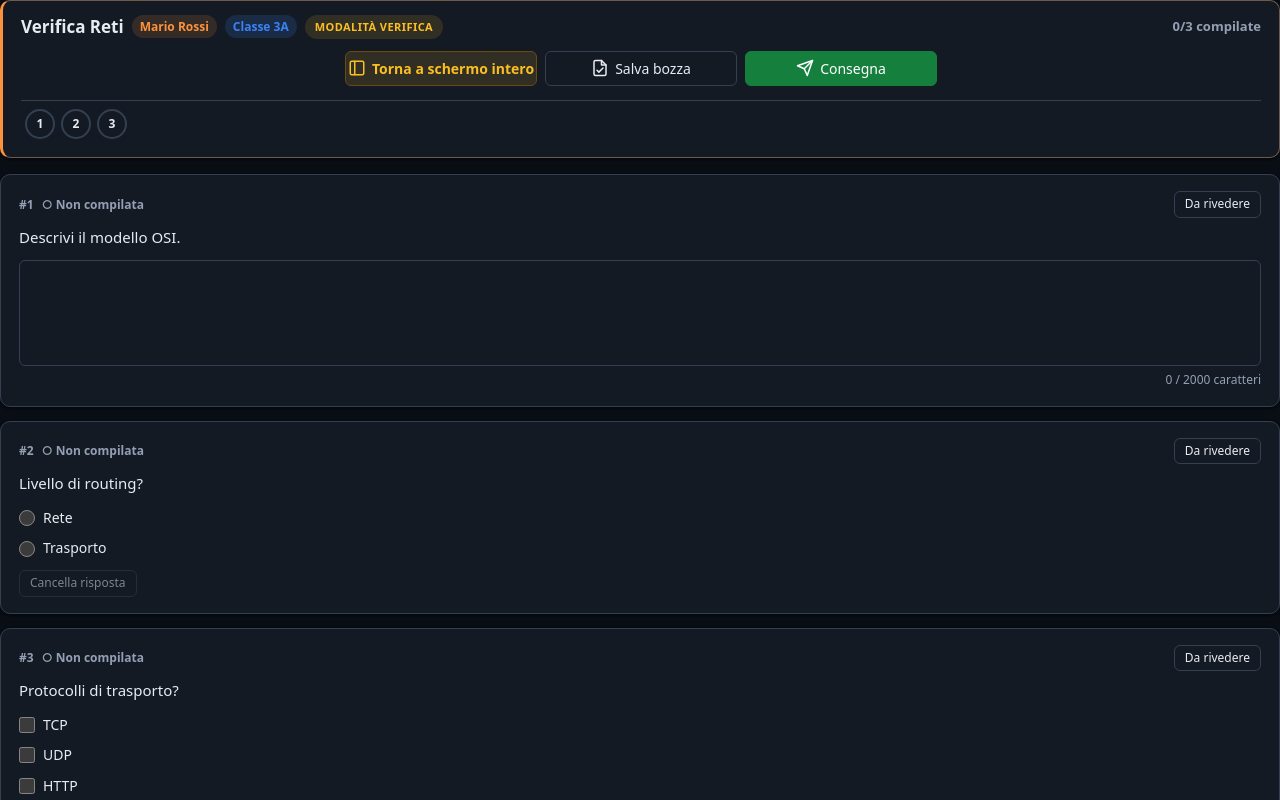
OnlineExamView — question rendering › shows "Non compilata" for every question initially and "Compilata" once answered
expect the text "○ Non compilata" is shown 3 times: met, box [42,195,144,214]; [42,442,144,461]; [42,648,144,668]
Type "Il modello OSI ha 7 livelli." into the text box named "Risposta alla domanda 1" at [640, 314], box [19,260,1261,366]
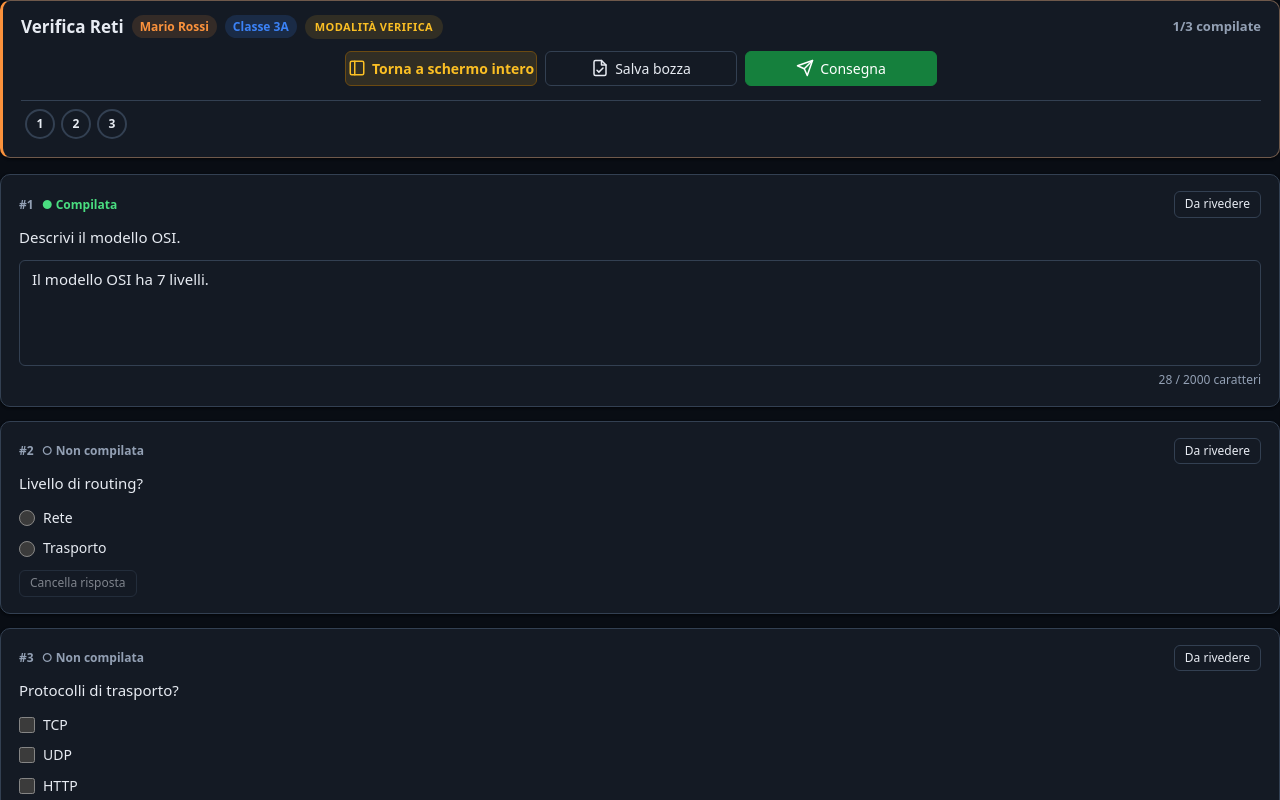
expect the text "○ Non compilata" is shown 2 times: met, box [42,442,144,461]; [42,648,144,668]
expect the text "● Compilata" is shown: met, box [42,195,117,214]
